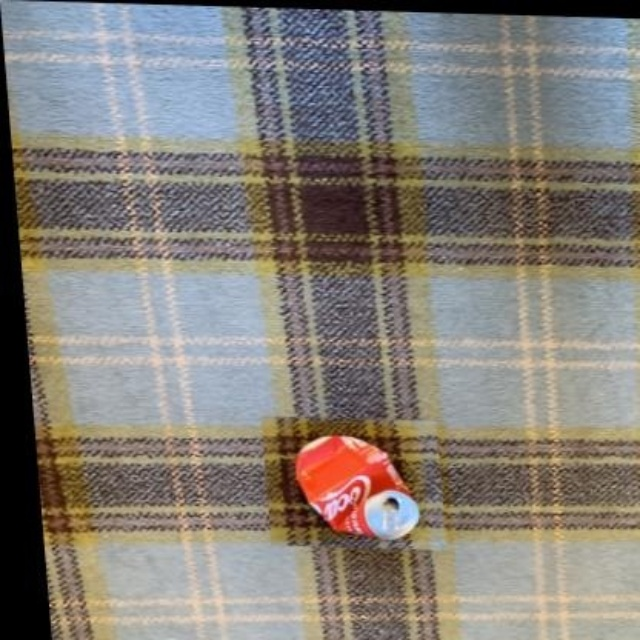trash: (295, 435, 417, 538)
